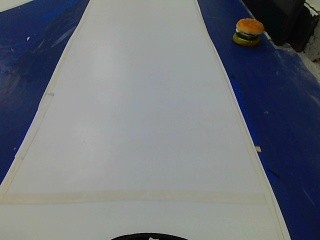burger: (228, 19, 265, 52)
